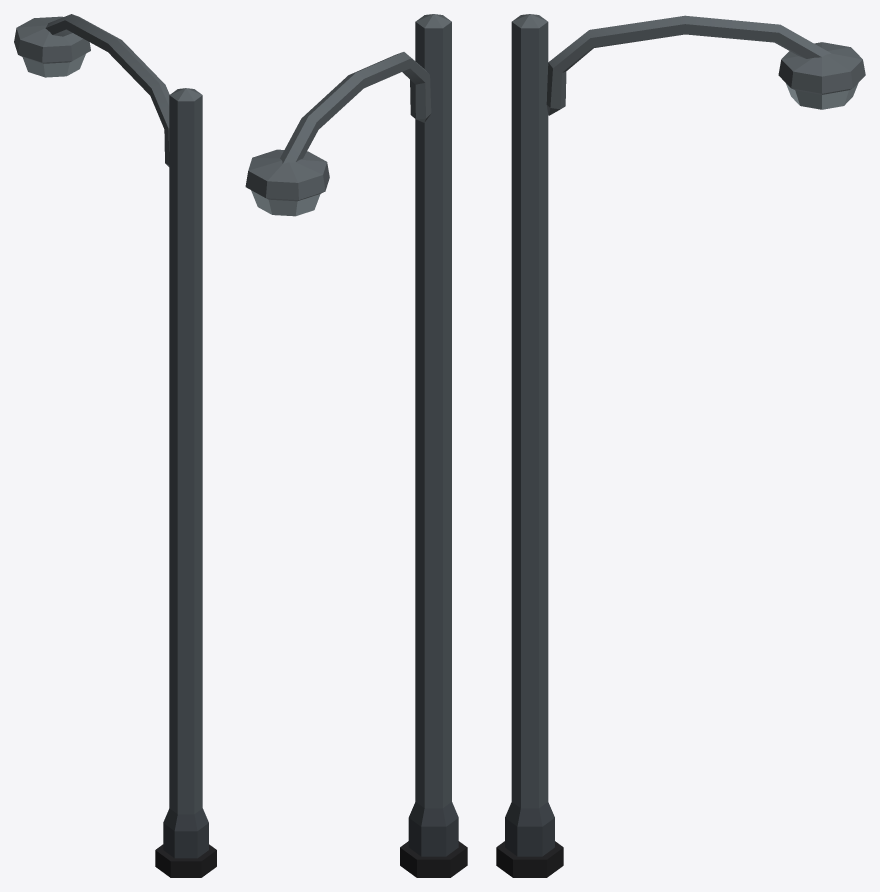
The model's file is streetamp_22.fbx.
The picture shows the model from 3 angles, left to right: view 1: azimuth 30°, elevation 25°; view 2: azimuth 150°, elevation 25°; view 3: azimuth 270°, elevation 25°; orthographic projection. The views are drawn at different scales.
Parts seen in each view (by area): view 1: Streetlamp_22; view 2: Streetlamp_22; view 3: Streetlamp_22.
Part boxes in pixels (<box>): Streetlamp_22: <box>14,14,216,877</box>; Streetlamp_22: <box>245,14,467,877</box>; Streetlamp_22: <box>496,14,865,877</box>.
Bounding box in the file's own units: 0.0883 × 0.9496 × 0.3735.
Materials: 1 (1 with a texture image).
